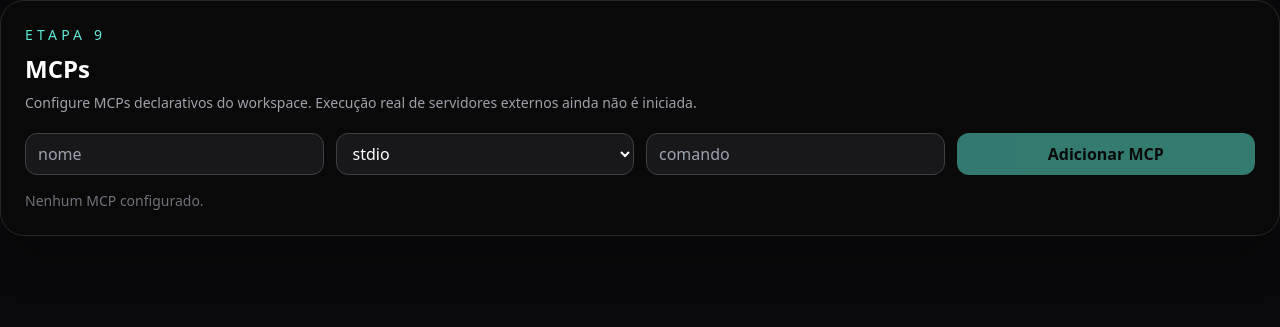
Test case: McpPanel › adds MCPs
Type "github" into the field with placeholder "nome" at (174, 154), box x1=25 y1=133 x2=324 y2=175
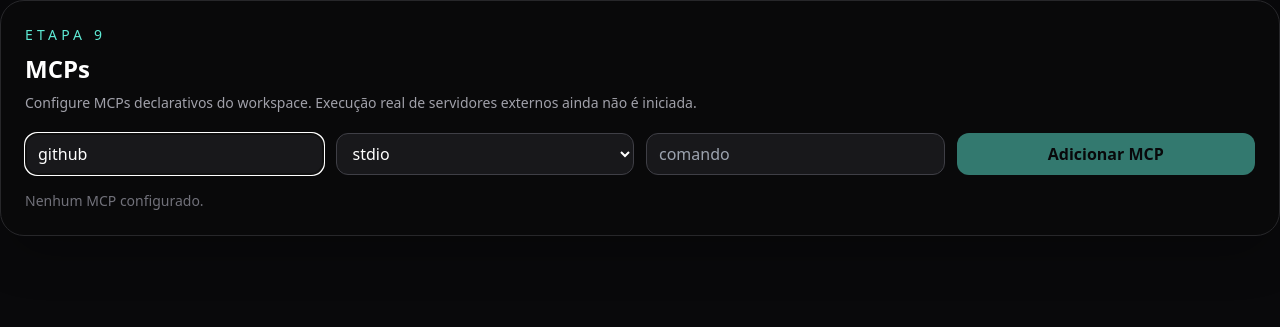
Type "node server.js" into the field with placeholder "comando" at (795, 154), box x1=646 y1=133 x2=944 y2=175
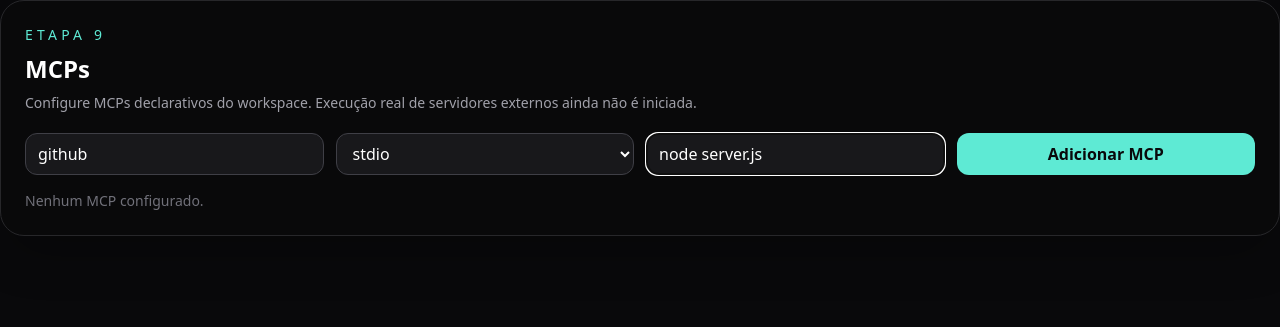
Click the button "Adicionar MCP" at (1106, 154), box x1=956 y1=133 x2=1255 y2=175
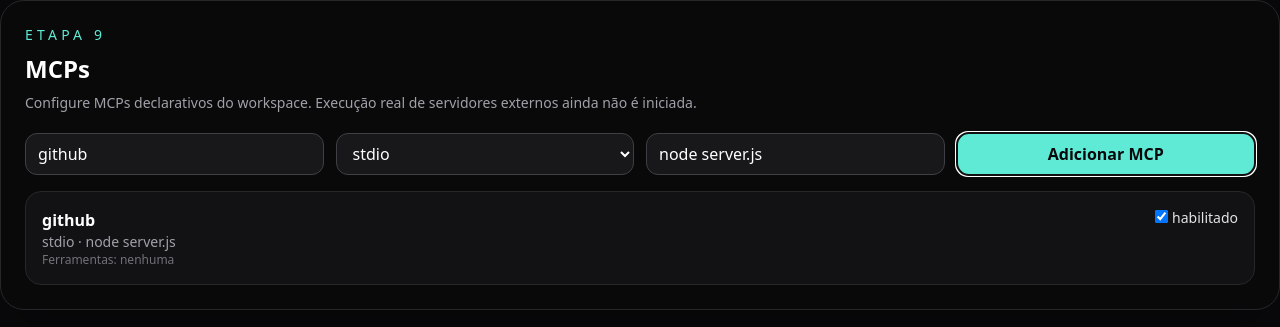
Expected: the heading "github" is shown, x1=42 y1=209 x2=95 y2=231
